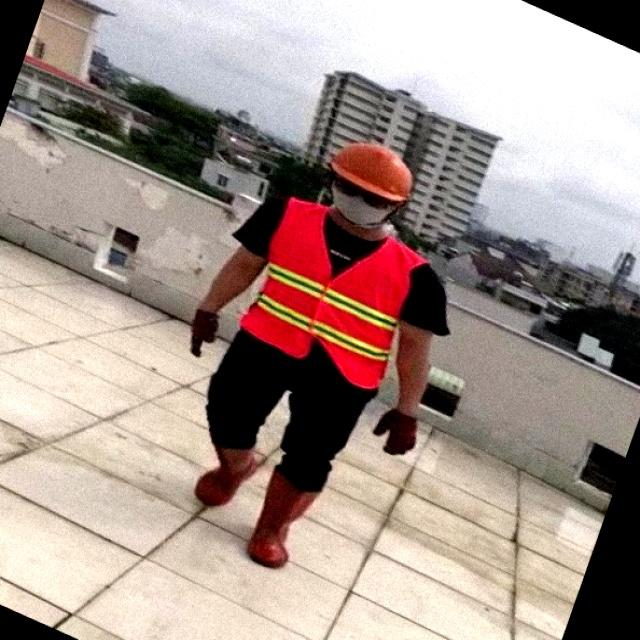helmet: (332, 138, 418, 200)
safety_vest: (242, 194, 438, 398)
